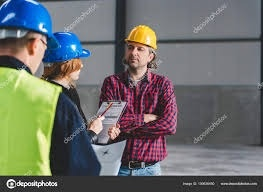helmet: (1, 1, 59, 48), (48, 31, 97, 64), (123, 23, 160, 51)
person with full safety: (1, 1, 61, 158)
person with partial safety: (99, 25, 174, 173), (49, 30, 95, 102)
safety vest: (1, 79, 63, 178)
